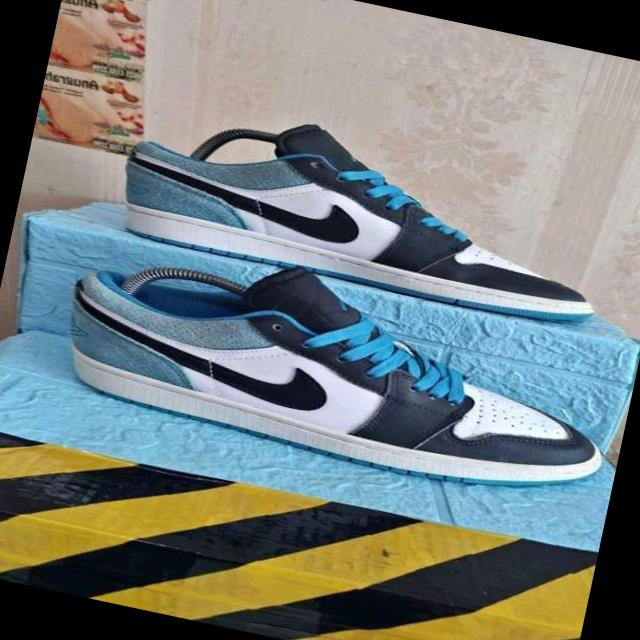nike_fake_jordan: (49, 219, 627, 515), (90, 85, 640, 348)
